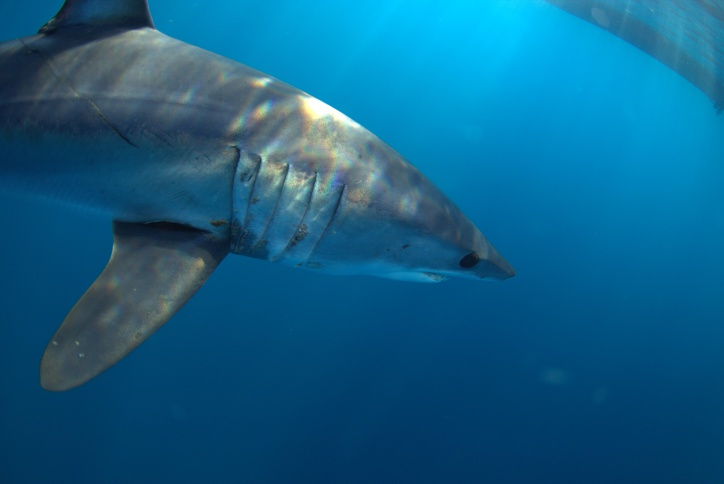Mako: (1, 1, 543, 385)
